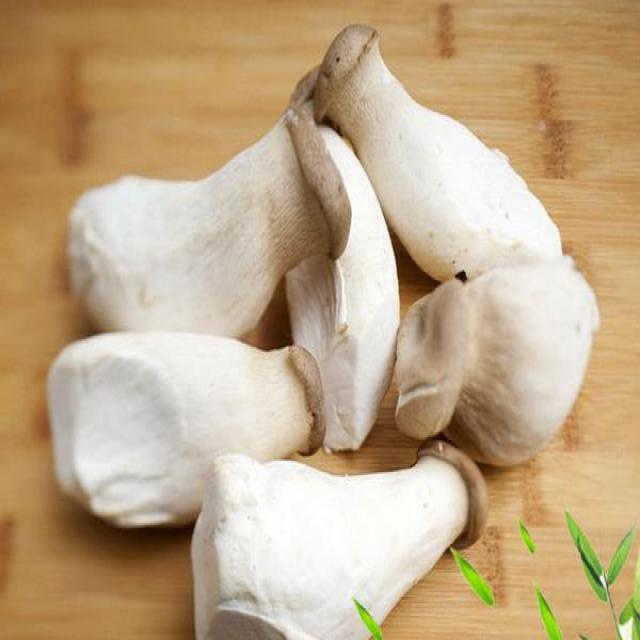Pleurotus eryngii: (288, 24, 562, 279), (69, 111, 351, 339), (191, 442, 490, 640), (50, 332, 325, 535), (396, 262, 603, 463)
